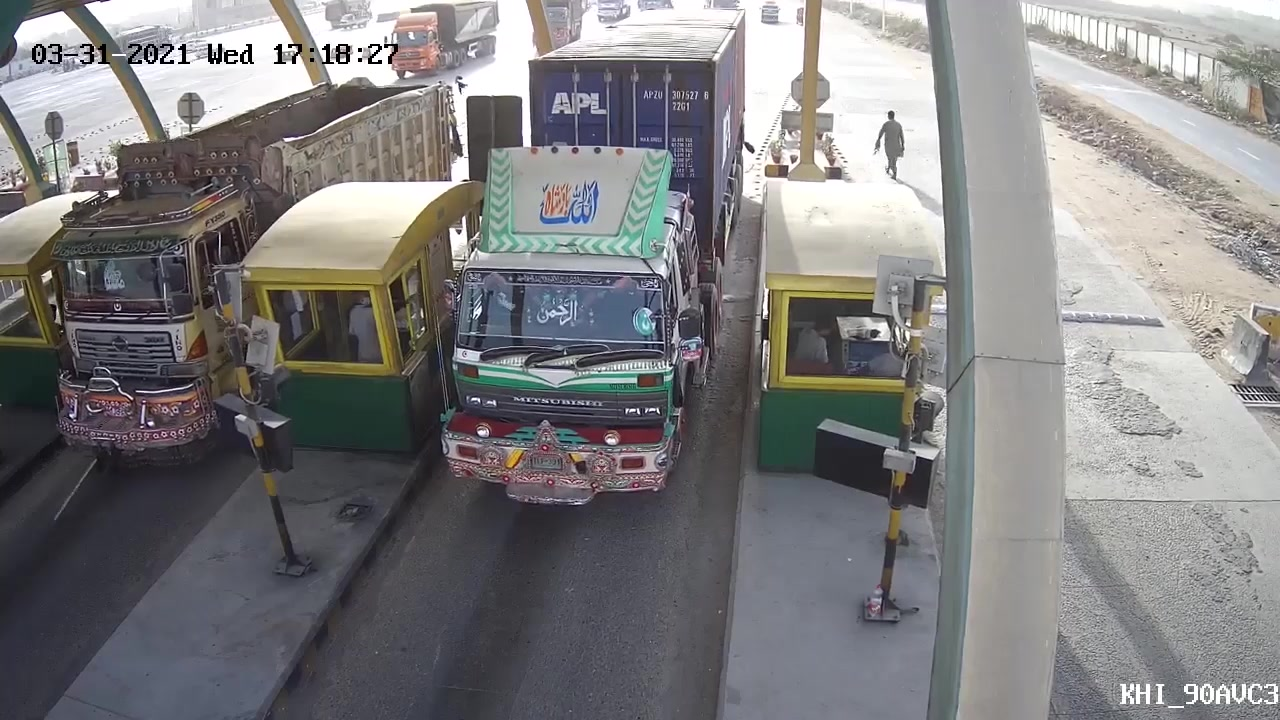F6: (431, 1, 753, 512)
